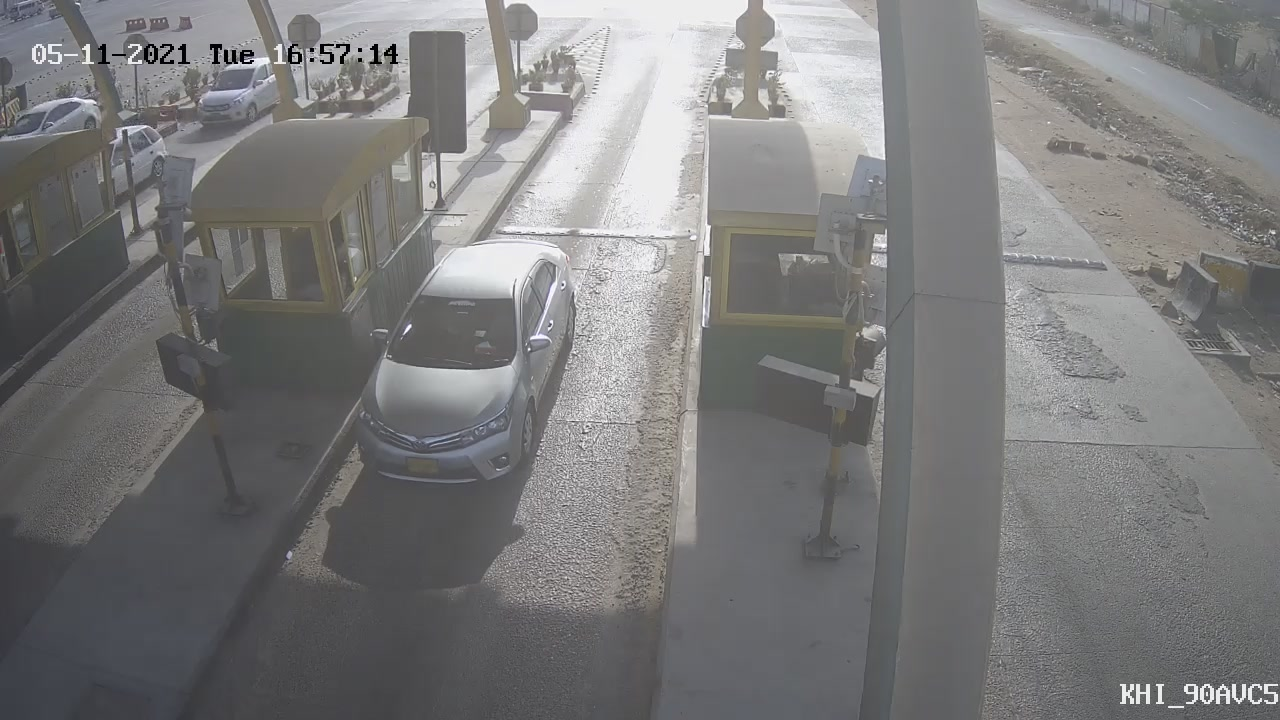F1: (316, 216, 596, 512)
